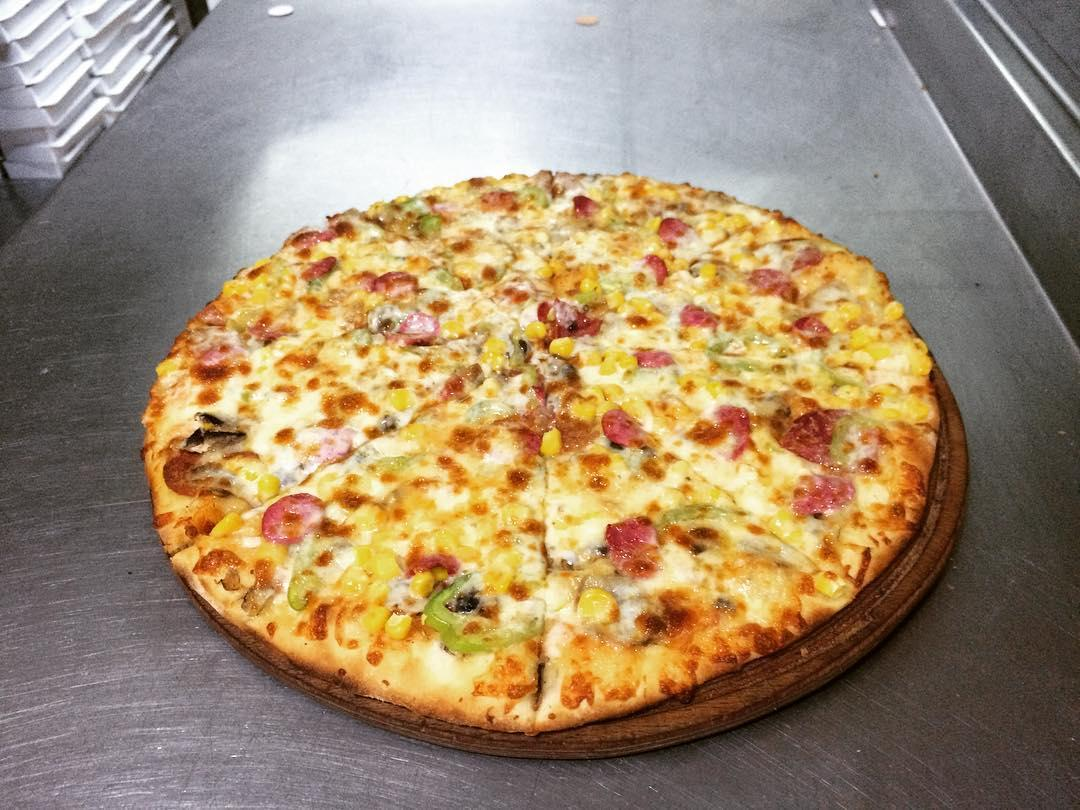Bacon: (780, 401, 879, 477), (597, 514, 659, 579), (255, 491, 328, 544), (597, 404, 656, 451), (710, 400, 756, 460), (188, 326, 242, 376), (786, 477, 853, 517), (388, 310, 442, 346), (354, 269, 422, 296), (747, 266, 798, 301), (786, 310, 830, 347), (244, 307, 292, 338), (630, 342, 679, 372), (671, 301, 723, 326), (639, 248, 669, 288), (472, 184, 517, 210), (568, 190, 607, 220), (790, 240, 824, 274), (285, 226, 335, 248), (300, 254, 338, 282), (658, 213, 690, 246)
Corn: (571, 585, 625, 630), (906, 333, 935, 382), (204, 509, 248, 539), (370, 547, 406, 583), (334, 559, 366, 598), (565, 388, 602, 420), (253, 471, 285, 505), (355, 601, 390, 632), (404, 565, 440, 595), (583, 380, 630, 401), (387, 607, 416, 641), (479, 334, 510, 365), (899, 390, 928, 422), (579, 273, 605, 308), (523, 314, 551, 344), (354, 541, 379, 574), (384, 385, 414, 412), (541, 426, 566, 458), (545, 331, 579, 354), (442, 310, 469, 338), (697, 206, 732, 227), (866, 338, 898, 360), (689, 259, 724, 279), (222, 273, 253, 295), (641, 210, 667, 235), (816, 315, 846, 336), (629, 294, 655, 317), (848, 326, 877, 344), (880, 300, 906, 320), (728, 212, 751, 233), (834, 303, 862, 320), (727, 248, 753, 266), (583, 342, 602, 366), (607, 290, 627, 311), (597, 357, 619, 376), (251, 281, 270, 302), (618, 354, 640, 369), (606, 344, 627, 357)
Peppers: (424, 565, 550, 661), (699, 329, 794, 374), (655, 501, 748, 530), (830, 412, 868, 466), (814, 352, 866, 390), (398, 196, 446, 236)
Pizza: (144, 168, 946, 741)
